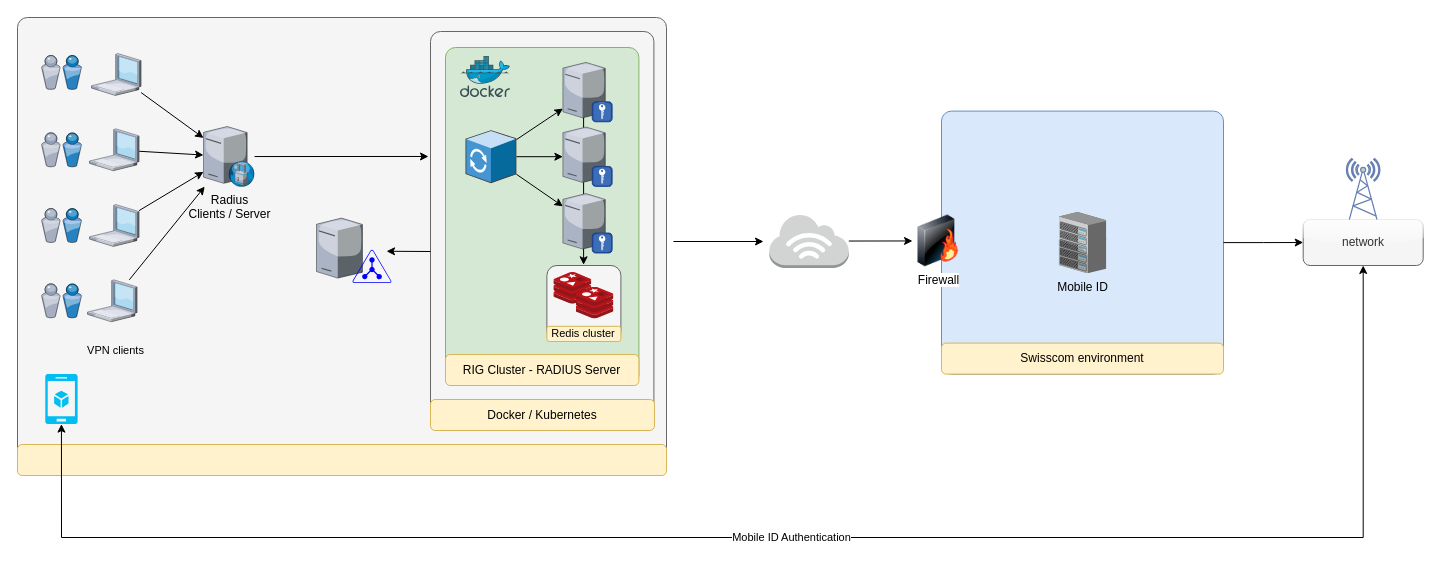
Image size: 1441x564. Some labels were removed from this diagram. Each missing label, with the box of its shape:
Customer Environment: (16, 444, 666, 476)
Internet: (768, 213, 849, 268)
LDAP: (316, 218, 362, 278)
Proxy / LB: (464, 129, 516, 183)
